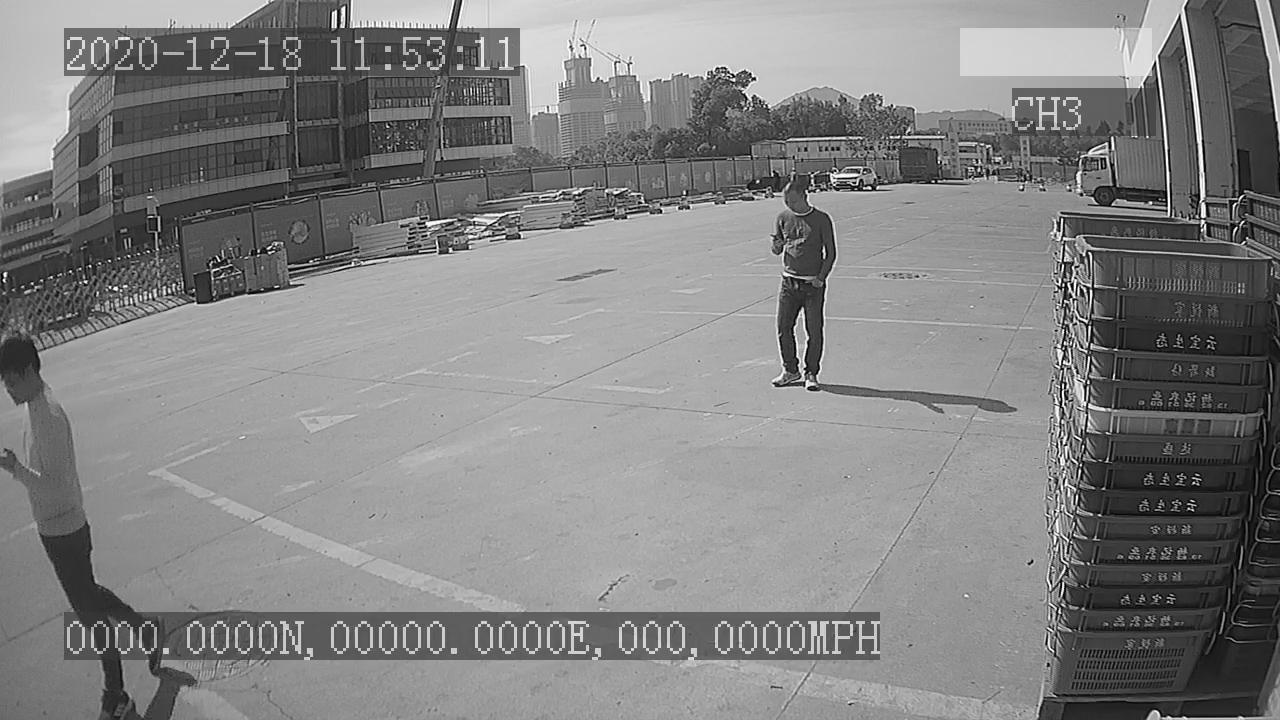person: (759, 172, 840, 399)
